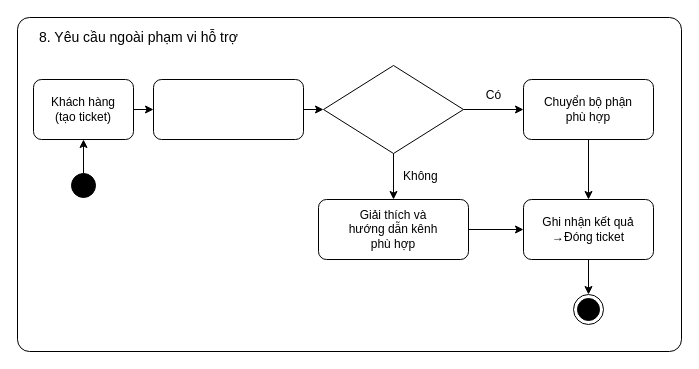
Some shapes in this 699 by 369 pixel diagram are drawn without their labels. The shapes that lost their labels are listed below. From the top down, each one's centre as x and y in pixels, then its label:
the point at 228,109: Nhân viên hỗ trợ (Kiểm tra phạm vi và dịch vụ)
the point at 393,109: Thuộc phạm vi hỗ trợ
